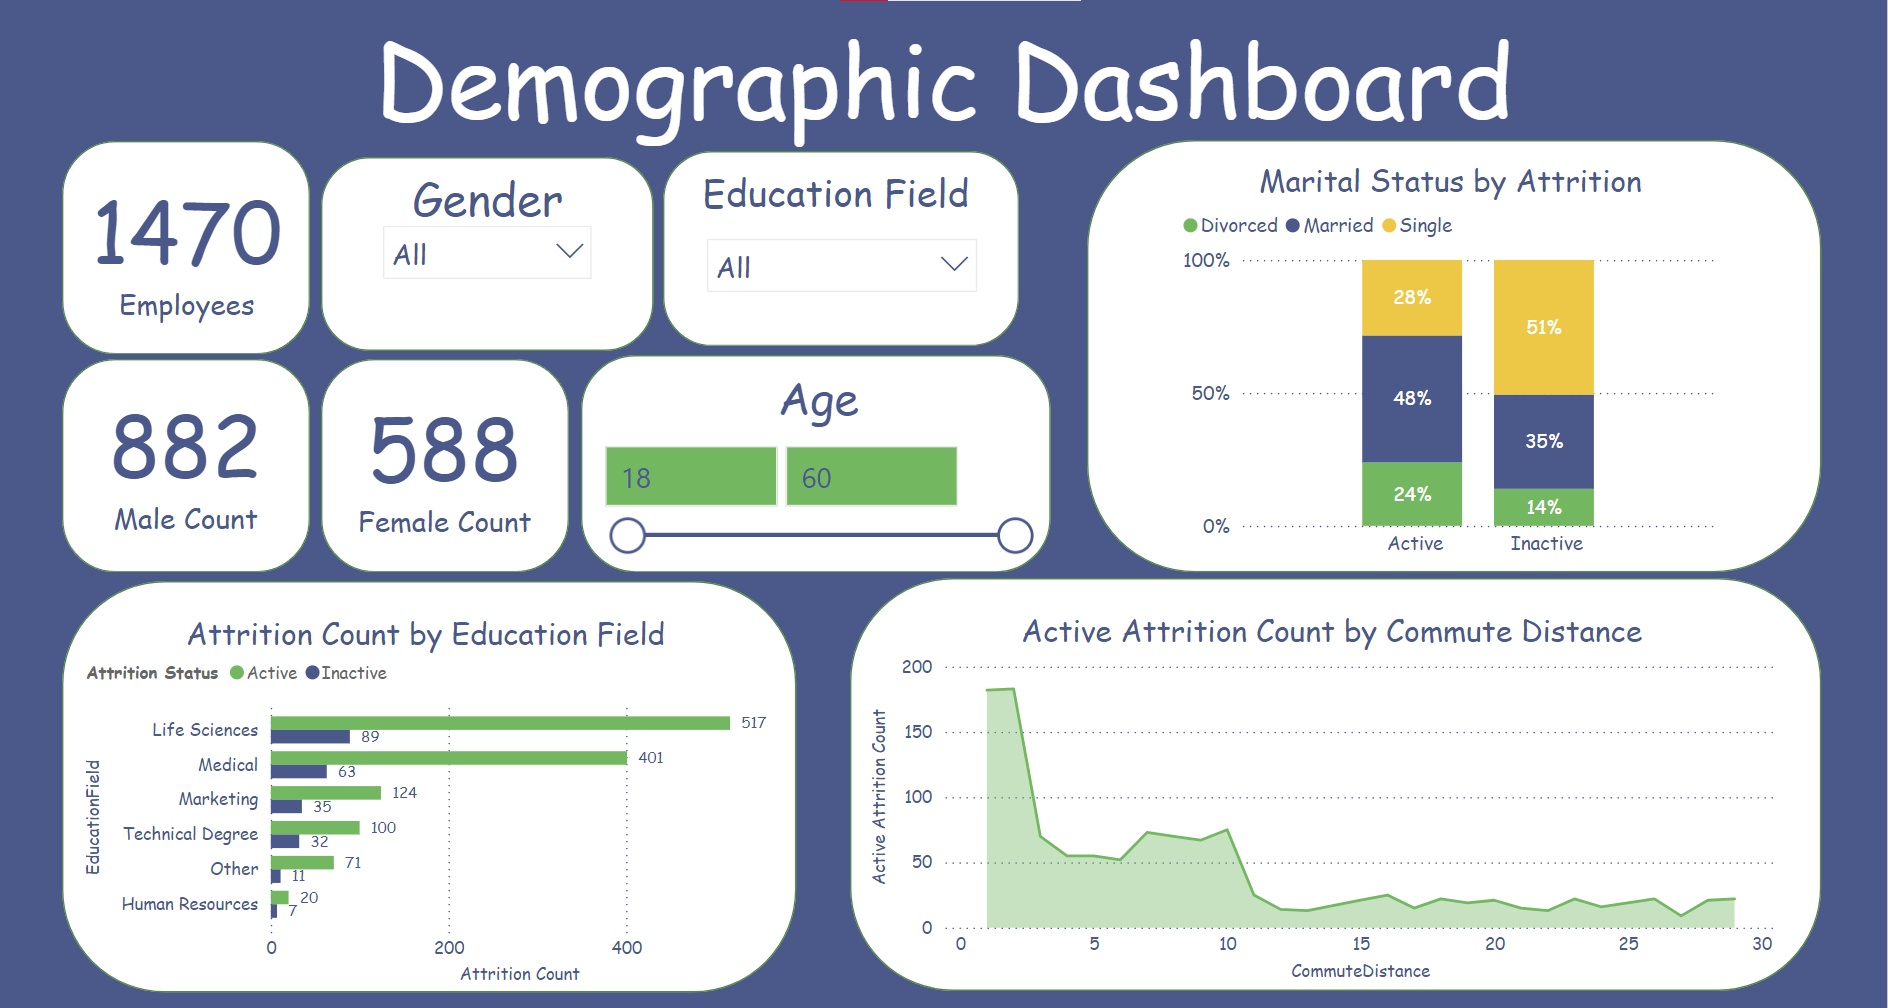

What the dashboard file says about the page in this screenshot:
{"tool":"powerbi","page":{"name":"Demographic Dashboard","canvas":[1280,720],"ordinal":1},"visuals":[{"type":"group","id":"g1","title":"Group 1","box":[742.3,100,524.5,308.8],"z":0,"group":"g5"},{"type":"group","id":"g2","title":"Group 3","box":[9.9,100.9,177.2,152.4],"z":0},{"type":"shape","box":[9.9,100.9,177.2,152.4],"z":0,"group":"g2"},{"type":"shape","box":[9.9,256.3,177.2,152.4],"z":0,"group":"g19"},{"type":"shape","box":[195,256.3,177.2,152.4],"z":0,"group":"g21"},{"type":"group","id":"g3","title":"Group 1","box":[573.1,413,693.8,294.9],"z":0,"group":"g8"},{"type":"group","id":"g4","title":"Group 1","box":[9.9,414.7,524.5,293.9],"z":0,"group":"g9"},{"type":"group","id":"g5","title":"Group 2","box":[742.3,100,524.5,308.8],"z":1000,"group":"g18"},{"type":"group","id":"g6","title":"Group 9","box":[439.4,107.6,254.4,139.5],"z":1000,"group":"g16"},{"type":"textbox","box":[786.6,108,430.5,46.5],"z":1000,"group":"g5"},{"type":"group","id":"g7","title":"Group 14","box":[195,111.8,237.5,138.6],"z":1000},{"type":"textbox","box":[397.8,256,304.8,56.4],"z":1000,"group":"g12"},{"type":"group","id":"g8","title":"Group 2","box":[573.1,413,693.8,294.9],"z":1000,"group":"g17"},{"type":"group","id":"g9","title":"Group 2","box":[9.9,414.7,524.5,293.9],"z":1000,"group":"g14"},{"type":"textbox","box":[632.1,429.2,569.4,44.7],"z":1000,"group":"g8"},{"type":"textbox","box":[54.5,430.9,430.5,44.5],"z":1000,"group":"g9"},{"type":"textbox","box":[0,0,1279.7,112.8],"z":2000},{"type":"group","id":"g10","title":"Group 6","box":[381,253.4,335.5,155.4],"z":3000,"group":"g15"},{"type":"group","id":"g11","title":"Group 4","box":[9.9,256.3,177.2,152.4],"z":3000},{"type":"card","fields":{"Values":["CountNonNull(Demographic_Data.EmployeeID)"]},"box":[14.8,106.8,168.2,140.5],"z":3500,"group":"g2"},{"type":"group","id":"g12","title":"Group 7","box":[397.8,256,304.8,56.4],"z":4000,"group":"g15"},{"type":"group","id":"g13","title":"Group 5","box":[195,256.3,177.2,152.4],"z":4000},{"type":"group","id":"g14","title":"Group 15","box":[9.9,414.7,524.5,293.9],"z":5000},{"type":"group","id":"g15","title":"Group 16","box":[381,253.4,335.5,155.4],"z":6000},{"type":"shape","box":[742.3,100,524.5,308.8],"z":6500,"group":"g1"},{"type":"shape","box":[573.1,413,693.8,294.9],"z":6500,"group":"g3"},{"type":"shape","box":[9.9,414.7,524.5,293.9],"z":6500,"group":"g4"},{"type":"group","id":"g16","title":"Group 11","box":[439.4,107.6,254.4,139.5],"z":7000},{"type":"group","id":"g17","title":"Group 15","box":[573.1,413,693.8,294.9],"z":8000},{"type":"slicer","fields":{"Values":["Demographic_Data.EducationField"]},"box":[460.8,158.5,212.8,67.3],"z":8501,"group":"g16"},{"type":"hundredPercentStackedColumnChart","fields":{"Category":["Attrition_Data.AttritionFlag"],"Series":["Demographic_Data.MaritalStatus"],"Y":["CountNonNull(Demographic_Data.MaritalStatus)"]},"box":[805.4,140.6,392.9,268.2],"z":8505,"group":"g18"},{"type":"areaChart","fields":{"Category":["Demographic_Data.CommuteDistance"],"Y":["Attrition_Data.Active Attrition Count"]},"box":[583.9,462.2,655.2,243.5],"z":9000},{"type":"group","id":"g18","title":"Group 12","box":[742.3,100,524.5,308.8],"z":10000},{"type":"shape","box":[381,253.4,335.5,155.4],"z":10000,"group":"g10"},{"type":"group","id":"g19","title":"Group 3","box":[9.9,256.3,177.2,152.4],"z":10000,"group":"g11"},{"type":"group","id":"g20","title":"Group 4","box":[195,256.3,177.2,152.4],"z":10000,"group":"g13"},{"type":"group","id":"g21","title":"Group 3","box":[195,256.3,177.2,152.4],"z":10000,"group":"g20"},{"type":"slicer","fields":{"Values":["Demographic_Data.Age"]},"box":[385.1,308.5,326.4,91.5],"z":10500,"group":"g10"},{"type":"shape","box":[439.4,107.6,254.4,139.5],"z":11000,"group":"g22"},{"type":"shape","box":[195,111.8,237.5,138.6],"z":11000,"group":"g23"},{"type":"card","fields":{"Values":["Demographic_Data.Male Count"]},"box":[23.8,264.2,149.4,130.6],"z":11000,"group":"g11"},{"type":"card","fields":{"Values":["Demographic_Data.Female Count"]},"box":[208.9,270.2,149.4,123.7],"z":11000,"group":"g13"},{"type":"clusteredBarChart","fields":{"Category":["Demographic_Data.EducationField"],"Y":["CountNonNull(Attrition_Data.AttritionFlag)"],"Series":["Attrition_Data.AttritionFlag"]},"box":[21.9,460.5,508.7,247.4],"z":11502,"group":"g14"},{"type":"group","id":"g22","title":"Group 8","box":[439.4,107.6,254.4,139.5],"z":12001,"group":"g6"},{"type":"textbox","box":[443.9,113,238.5,52.5],"z":12501,"group":"g6"},{"type":"group","id":"g23","title":"Group 10","box":[195,111.8,237.5,138.6],"z":13000,"group":"g7"},{"type":"textbox","box":[238,114.1,152.3,65.3],"z":13000,"group":"g23"},{"type":"slicer","fields":{"Values":["Demographic_Data.Gender"]},"box":[229.1,149.2,169.4,84.2],"z":14002,"group":"g7"}]}

Visuals, with their boxes in screenshot pixels (x1, y1, x2, y2):
"Group 1" group: 1079,143,1803,569
"Group 3" group: 68,144,312,355
shape: 68,144,312,355
shape: 68,359,312,569
shape: 323,359,568,569
"Group 1" group: 845,575,1803,982
"Group 1" group: 68,577,792,983
"Group 2" group: 1079,143,1803,569
"Group 9" group: 661,153,1012,346
textbox: 1140,154,1734,218
"Group 14" group: 323,159,651,351
textbox: 603,358,1024,436
"Group 2" group: 845,575,1803,982
"Group 2" group: 68,577,792,983
textbox: 927,597,1713,659
textbox: 129,600,724,661
textbox: 54,5,1821,161
"Group 6" group: 580,355,1043,569
"Group 4" group: 68,359,312,569
card - CountNonNull(Demographic_Data.EmployeeID): 75,152,307,346
"Group 7" group: 603,358,1024,436
"Group 5" group: 323,359,568,569
"Group 15" group: 68,577,792,983
"Group 16" group: 580,355,1043,569
shape: 1079,143,1803,569
shape: 845,575,1803,982
shape: 68,577,792,983
"Group 11" group: 661,153,1012,346
"Group 15" group: 845,575,1803,982
slicer - Demographic_Data.EducationField: 690,224,984,317
hundredPercentStackedColumnChart - Attrition_Data.AttritionFlag x Demographic_Data.MaritalStatus: 1166,199,1708,569
areaChart - Demographic_Data.CommuteDistance x Attrition_Data.Active Attrition Count: 860,643,1765,979
"Group 12" group: 1079,143,1803,569
shape: 580,355,1043,569
"Group 3" group: 68,359,312,569
"Group 4" group: 323,359,568,569
"Group 3" group: 323,359,568,569
slicer - Demographic_Data.Age: 586,431,1036,557
shape: 661,153,1012,346
shape: 323,159,651,351
card - Demographic_Data.Male Count: 87,370,293,550
card - Demographic_Data.Female Count: 342,378,549,549
clusteredBarChart - Demographic_Data.EducationField x CountNonNull(Attrition_Data.AttritionFlag): 84,641,787,982
"Group 8" group: 661,153,1012,346
textbox: 667,161,996,233
"Group 10" group: 323,159,651,351
textbox: 383,162,593,253
slicer - Demographic_Data.Gender: 370,211,604,327
